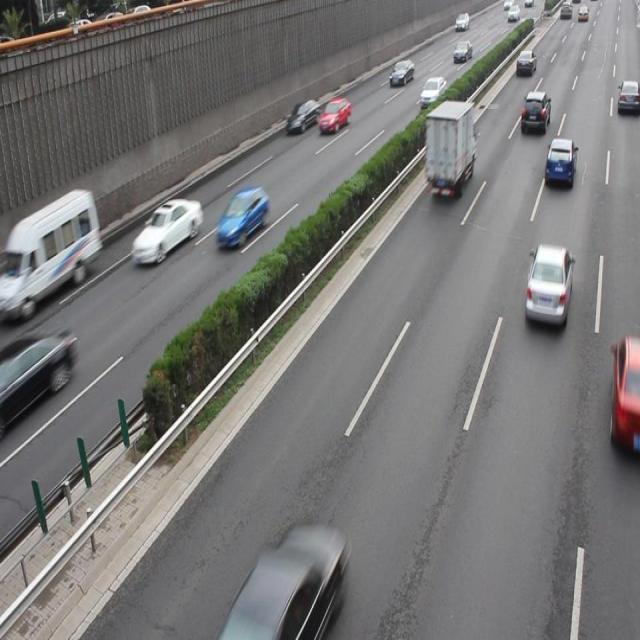bus: (424, 100, 475, 193)
car: (231, 526, 345, 640), (0, 330, 74, 430), (130, 197, 203, 264), (522, 241, 572, 328), (609, 334, 640, 453), (214, 187, 268, 249), (543, 137, 575, 191), (519, 90, 549, 134), (317, 95, 350, 134), (285, 98, 319, 135)
truck: (8, 190, 100, 312)
